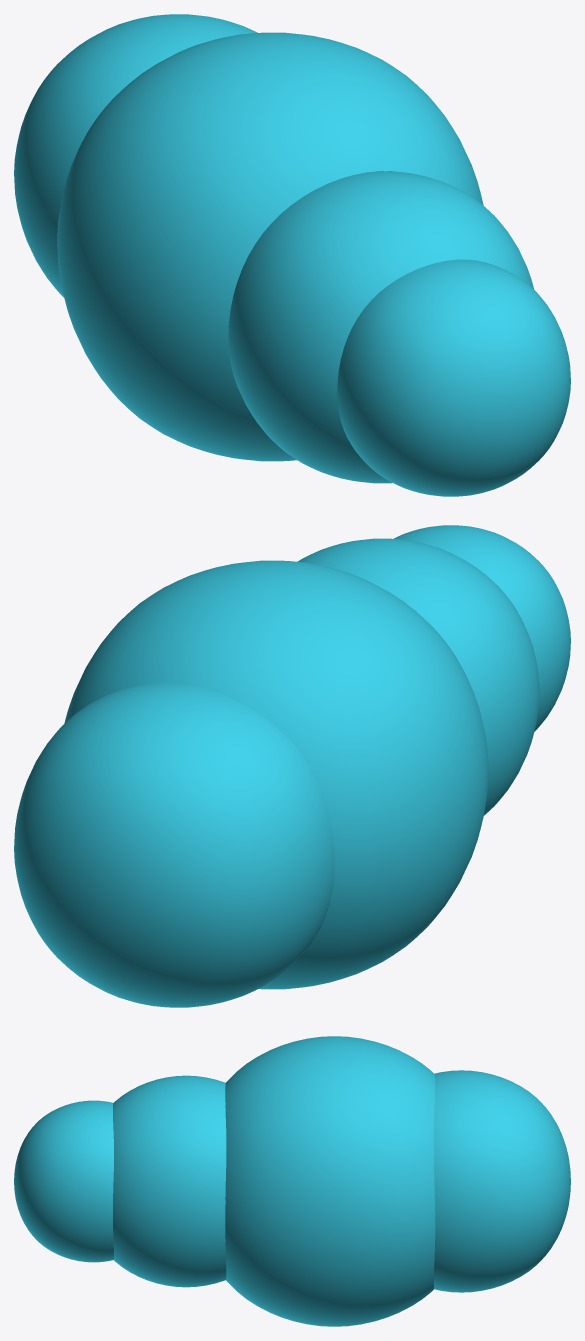
3 renders of one model, top to bottom at view 1: azimuth 30°, elevation 25°; view 2: azimuth 150°, elevation 25°; view 3: azimuth 270°, elevation 25°, orthographic. The views are drawn at different scales.
Visible parts, largest first — view 1: Cube.1428; view 2: Cube.1428; view 3: Cube.1428.
Part boxes in pixels (<box>): Cube.1428: <box>14,14,570,496</box>; Cube.1428: <box>14,525,570,1007</box>; Cube.1428: <box>14,1036,570,1326</box>.
Bounding box in the file's own units: 3.77 × 3.77 × 7.33.
1 material, 1 textured.
